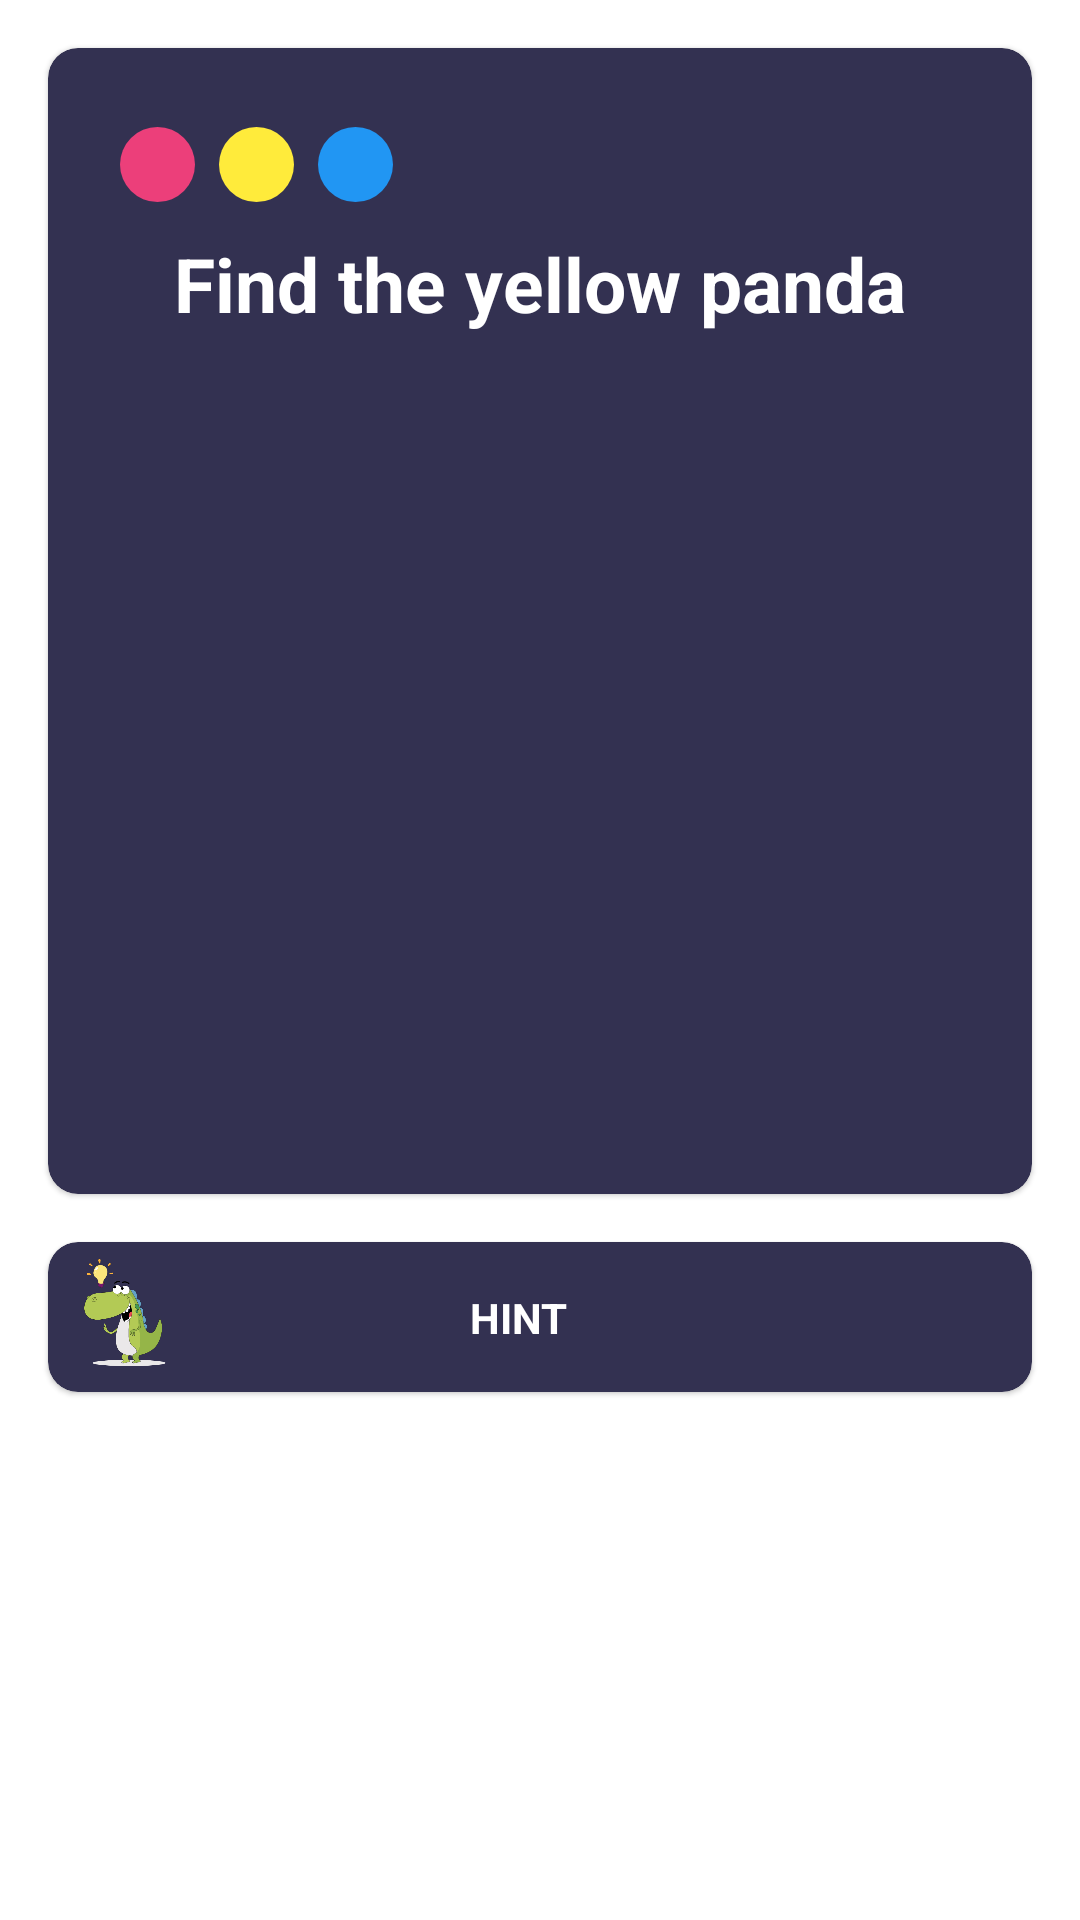

Point at icon controls on the screen. Image size 1080x1920, points as (x=x, y=y).
idea: (x=123, y=1317)
